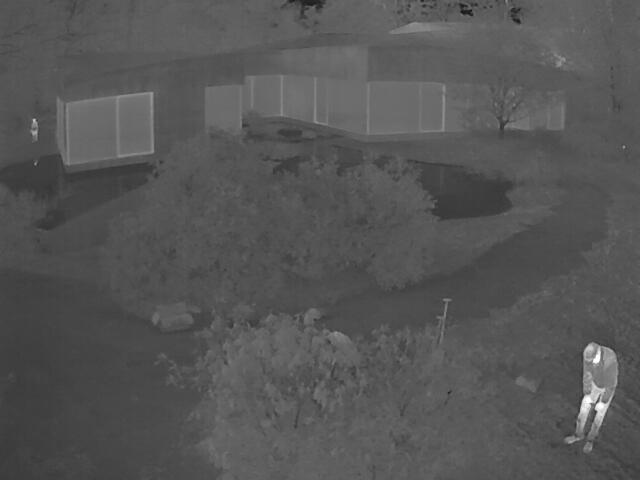person: (564, 341, 617, 453), (28, 115, 38, 140)
